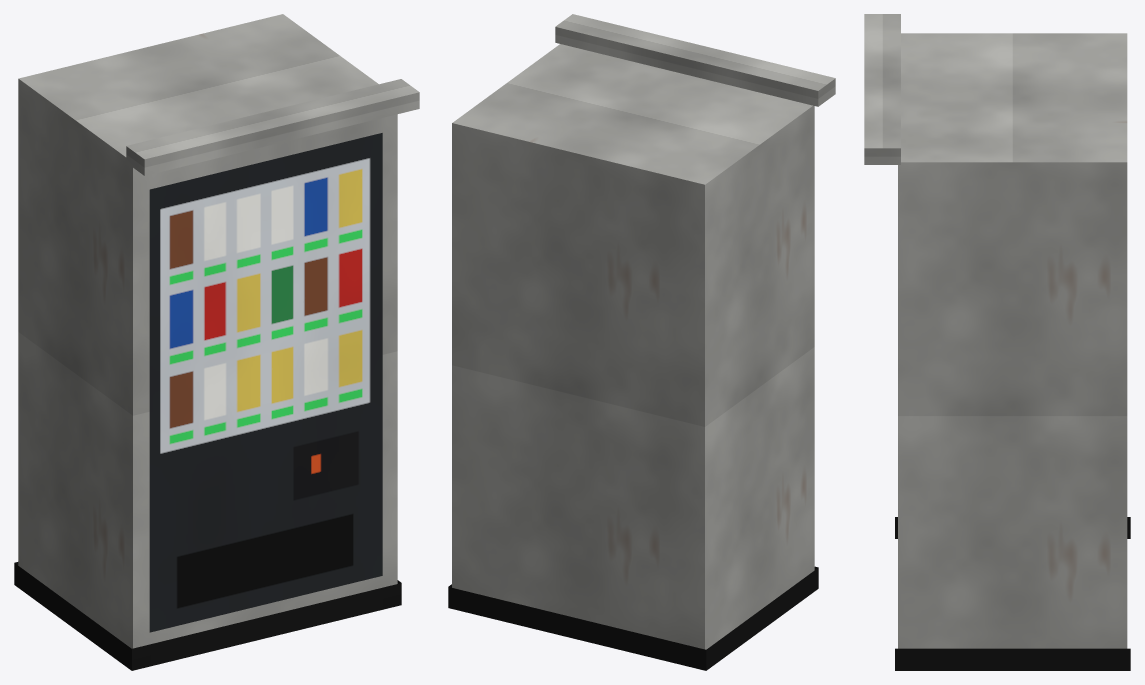
The model's file is vending_machine.glb.
The picture shows the model from 3 angles, left to right: view 1: azimuth 30°, elevation 25°; view 2: azimuth 150°, elevation 25°; view 3: azimuth 270°, elevation 25°; orthographic projection. The views are drawn at different scales.
Visible parts, largest first — view 1: vending_machine; view 2: vending_machine; view 3: vending_machine.
Boxes of the visible parts, x1,y1,x2,y2 form: vending_machine: [14, 14, 419, 670]; vending_machine: [448, 14, 835, 670]; vending_machine: [864, 14, 1130, 670].
Bounding box in the file's own units: 1.04 × 1.89 × 0.87.
Materials: 3 (3 with a texture image).
